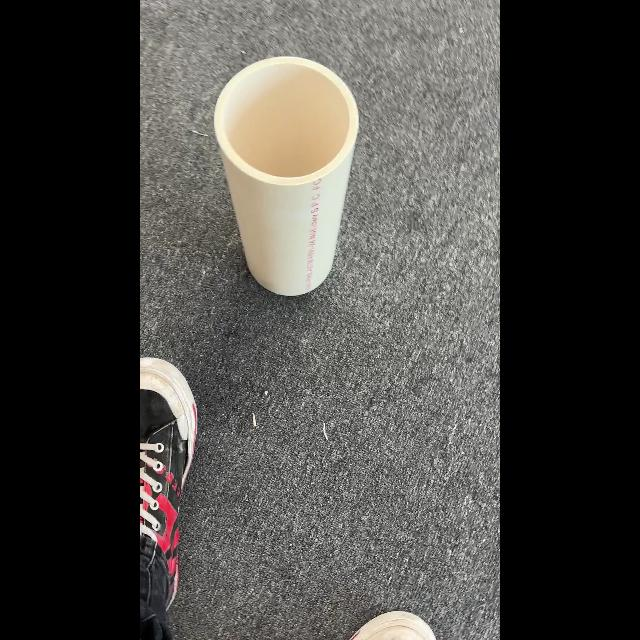CORAL: (212, 56, 360, 296)
